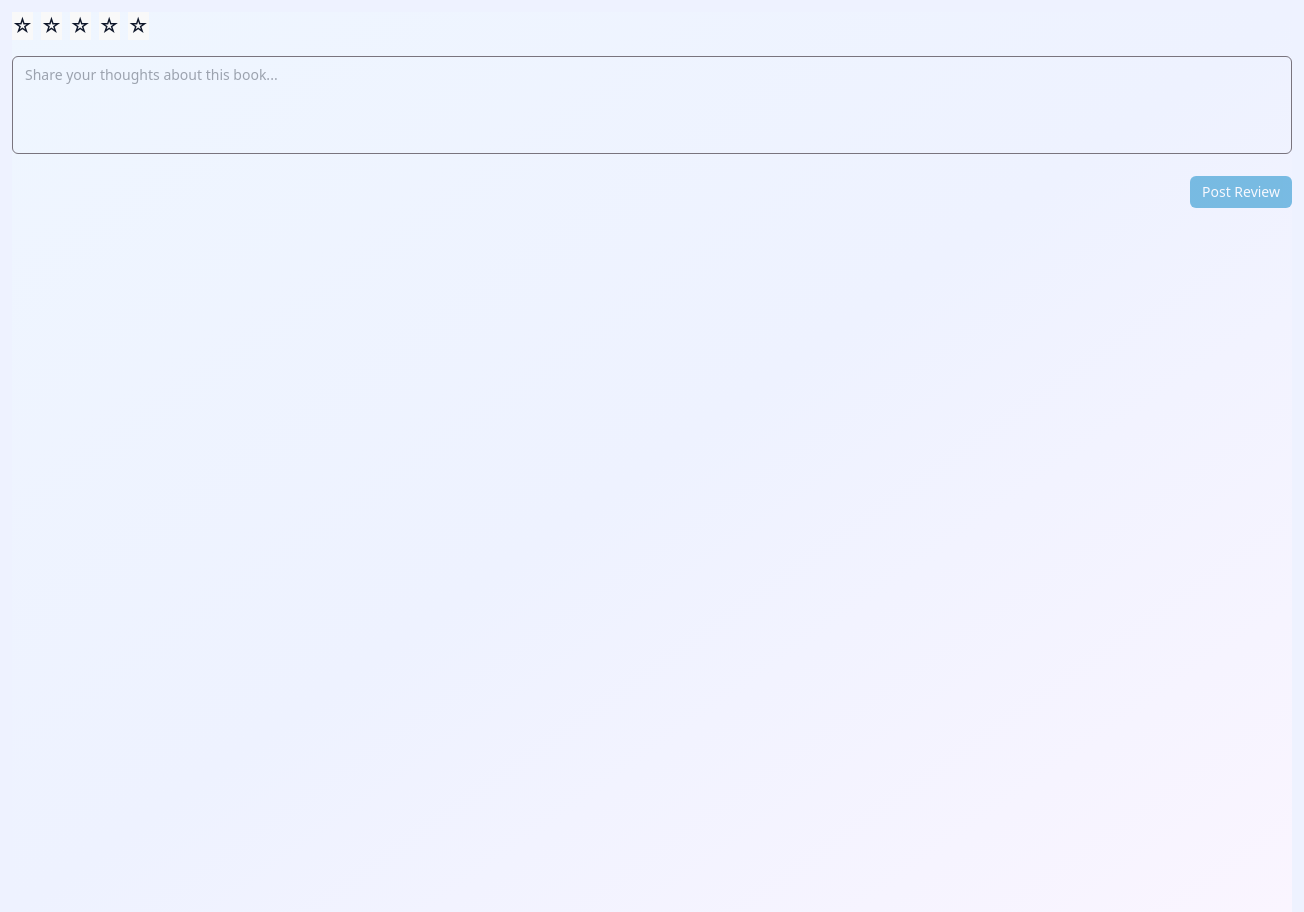
Test: ReviewForm Comprehensive Tests › updates rating when star is clicked
Click the button named "Rate 3 stars": coordinates (80, 26) [70,12,91,40]
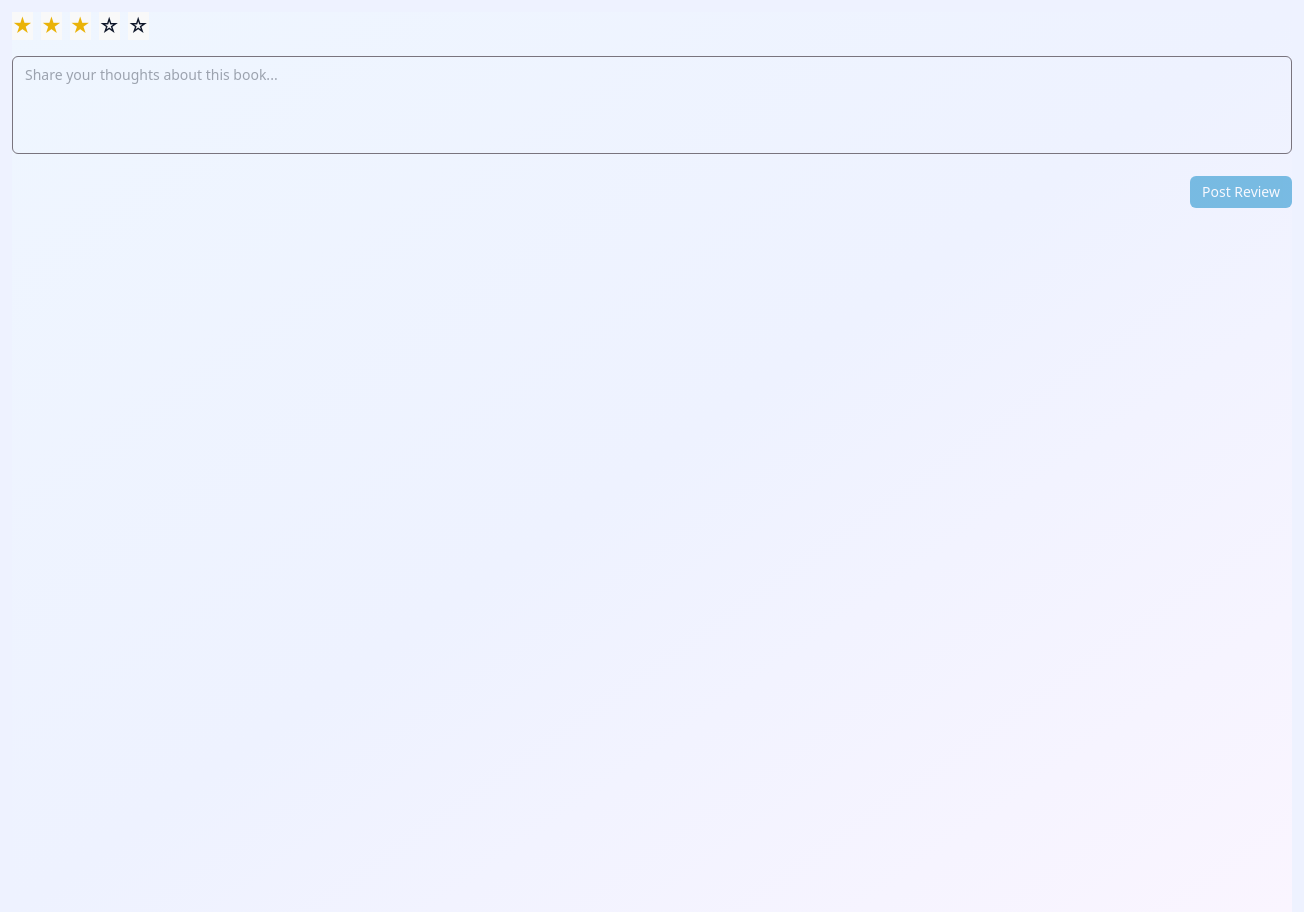
Check: the button named "Rate 3 stars" reads "★", box [70,12,91,40]
Check: the button named "Rate 1 star" reads "★", box [12,12,33,40]
Check: the button named "Rate 2 stars" reads "★", box [41,12,62,40]
